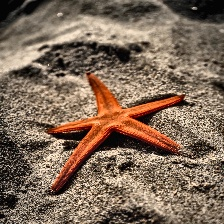starfish: (48, 72, 186, 194)
